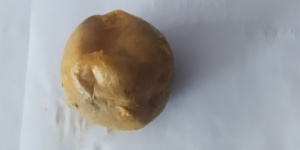BAD: (59, 7, 178, 132)
